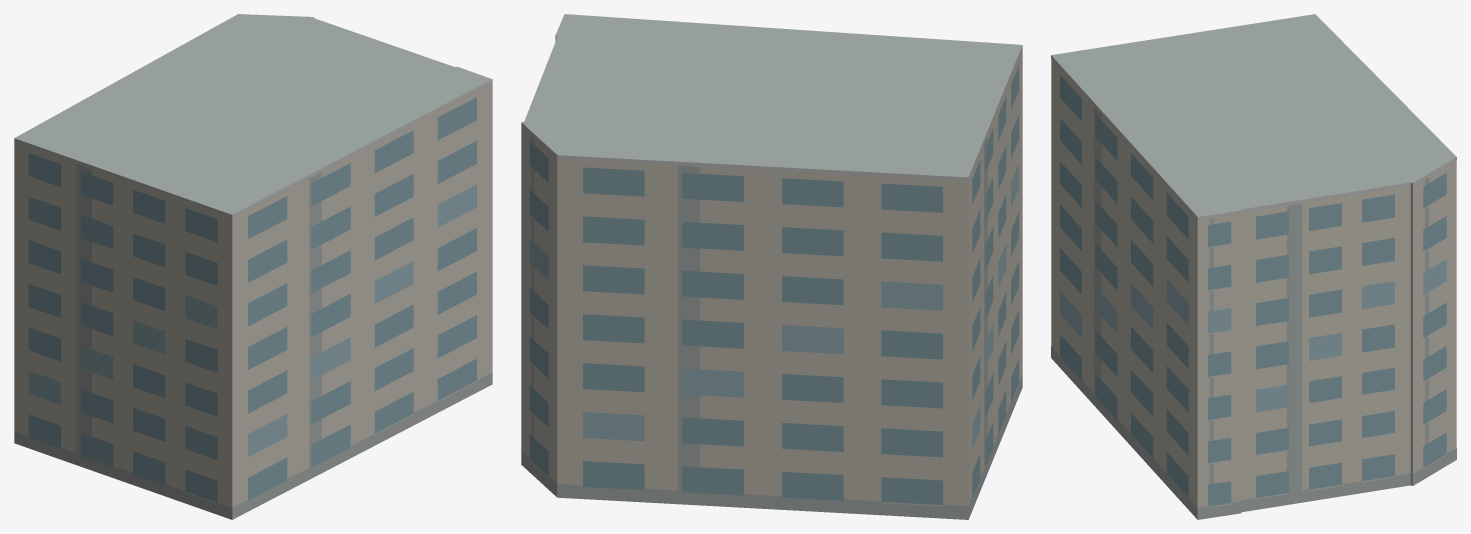
The model's file is survey-upis-32834175.glb.
The picture shows the model from 3 angles, left to right: view 1: azimuth 30°, elevation 25°; view 2: azimuth 150°, elevation 25°; view 3: azimuth 270°, elevation 25°; orthographic projection. The views are drawn at different scales.
Parts seen in each view (by area): view 1: survey-upis-32834175.tmp; view 2: survey-upis-32834175.tmp; view 3: survey-upis-32834175.tmp.
Part boxes in pixels (<box>): survey-upis-32834175.tmp: <box>14,14,492,519</box>; survey-upis-32834175.tmp: <box>521,14,1022,519</box>; survey-upis-32834175.tmp: <box>1051,14,1456,519</box>.
Size of the model in its own units: 28.4 by 19.75 by 23.98.
